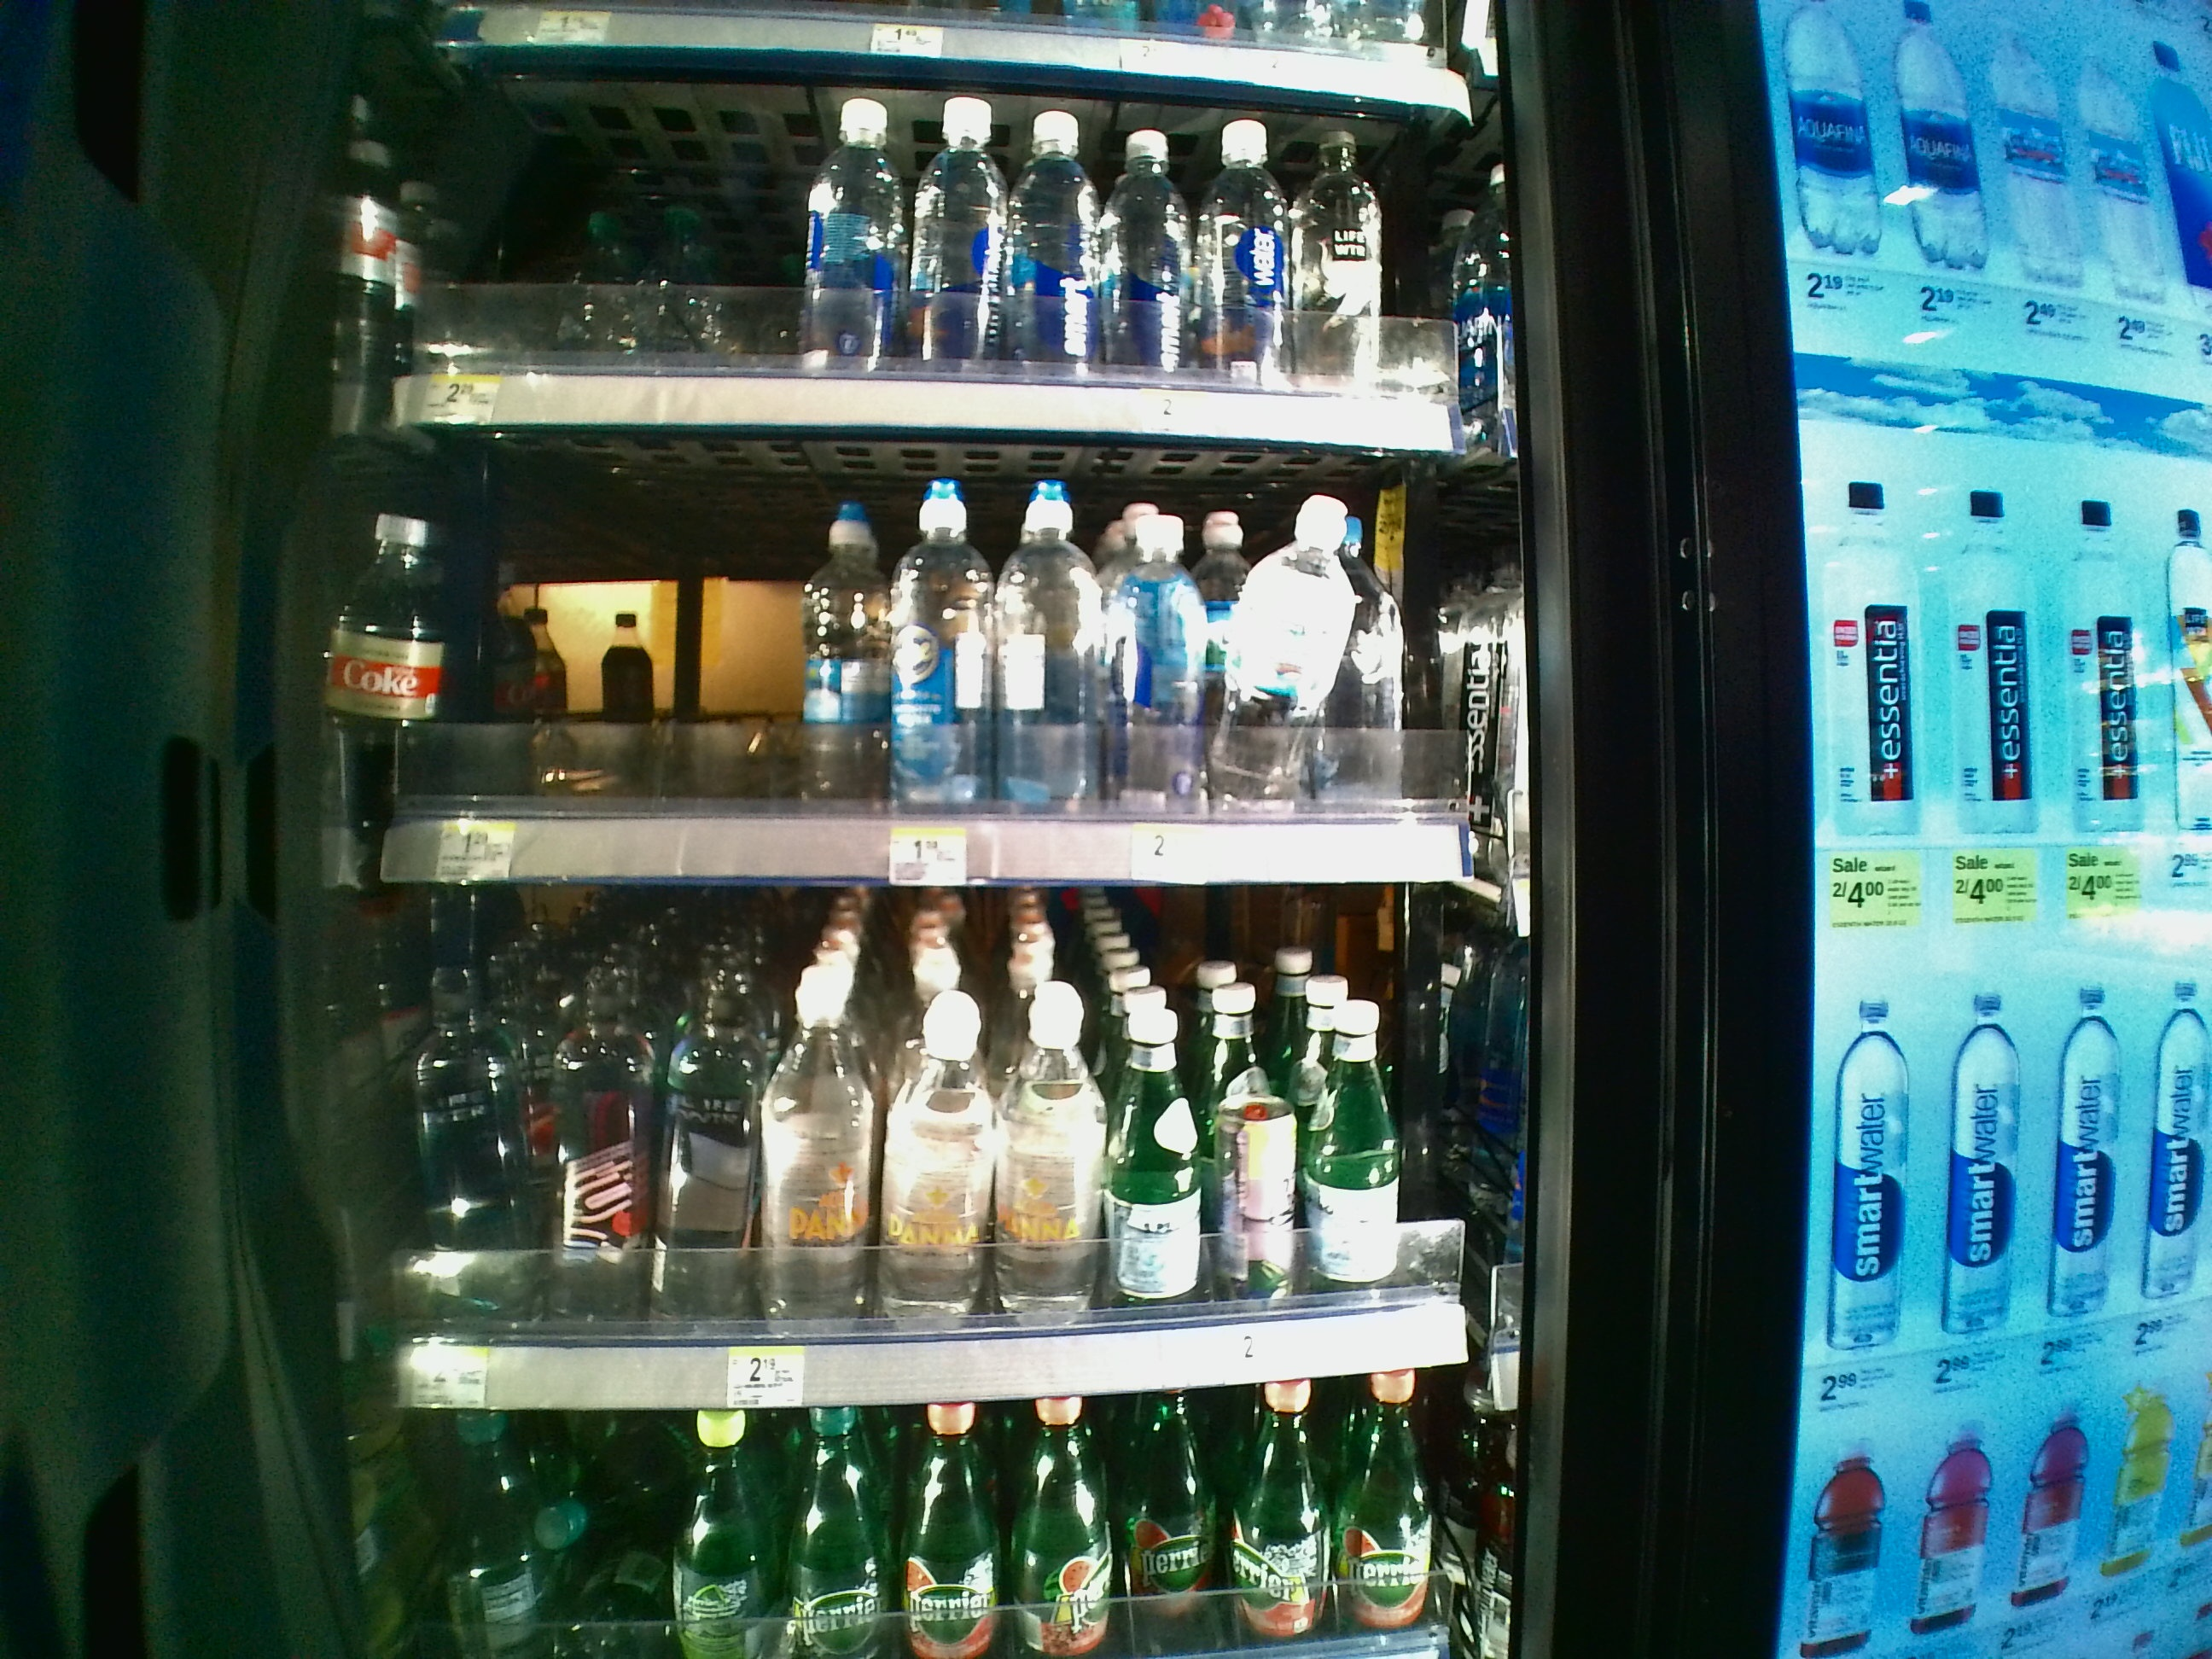shelf: (334, 894, 1526, 1413), (336, 425, 1524, 892)
